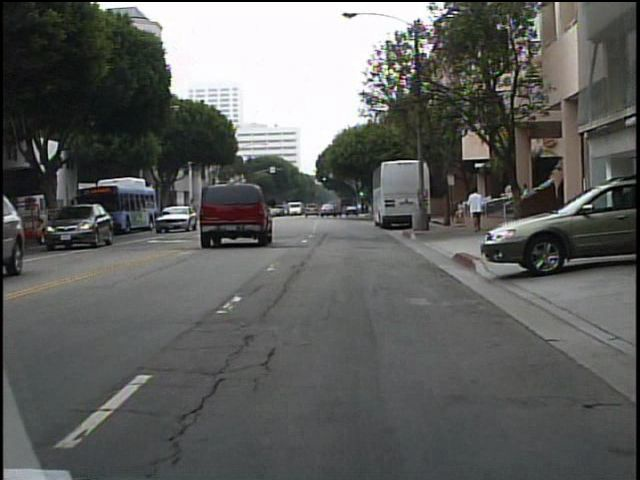person: (466, 183, 488, 235), (456, 198, 468, 225)
